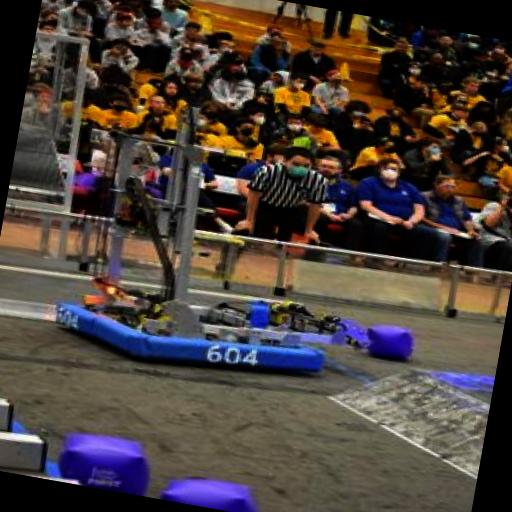robot: (30, 80, 422, 462)
